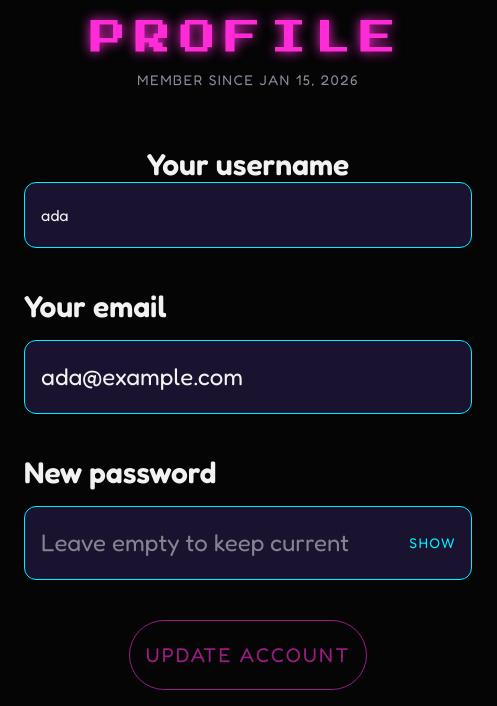
Test: Profile page › updating the account › sends only the changed fields, refreshes the session and clears the password
Replace the text in the field with placeholder "username" with "ada-lovelace" at (248, 215), box [24,182,472,248]
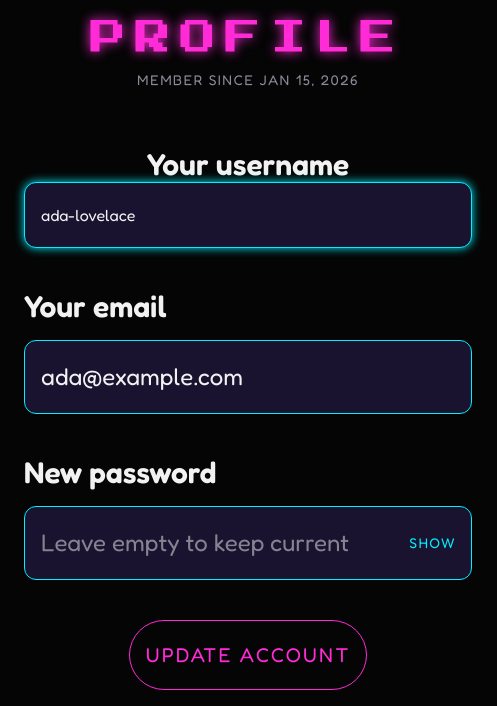
Type "newsecret1" into the password field with placeholder "Leave empty to keep current" at (248, 543), box [24,506,472,580]
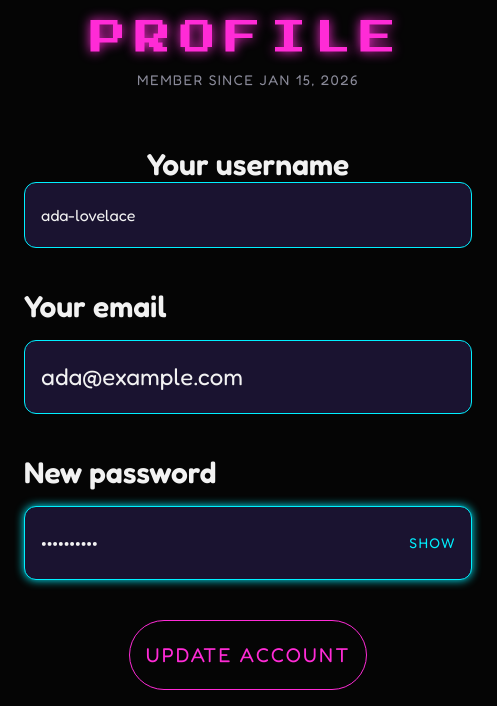
Click the button "Update account" at (248, 655), box [129,620,367,690]
(page scrolled)
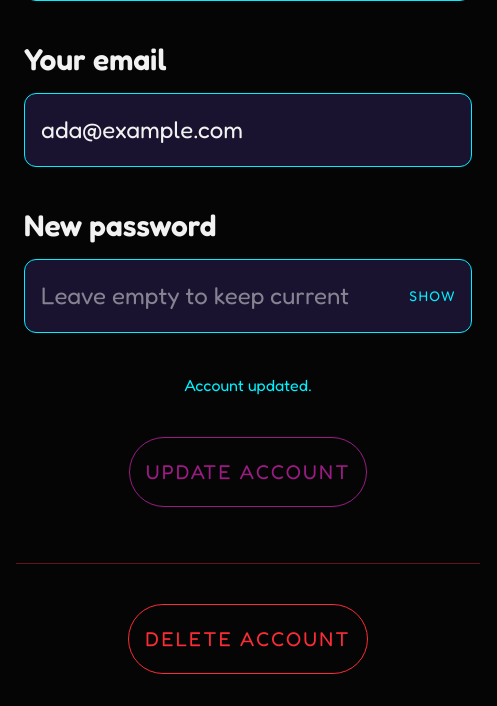
Expected: the text "Account updated." is shown, [184,375,312,395]
Expected: the password field with placeholder "Leave empty to keep current" is empty, [24,259,472,333]
Expected: the button "Update account" is disabled, [129,437,367,507]
